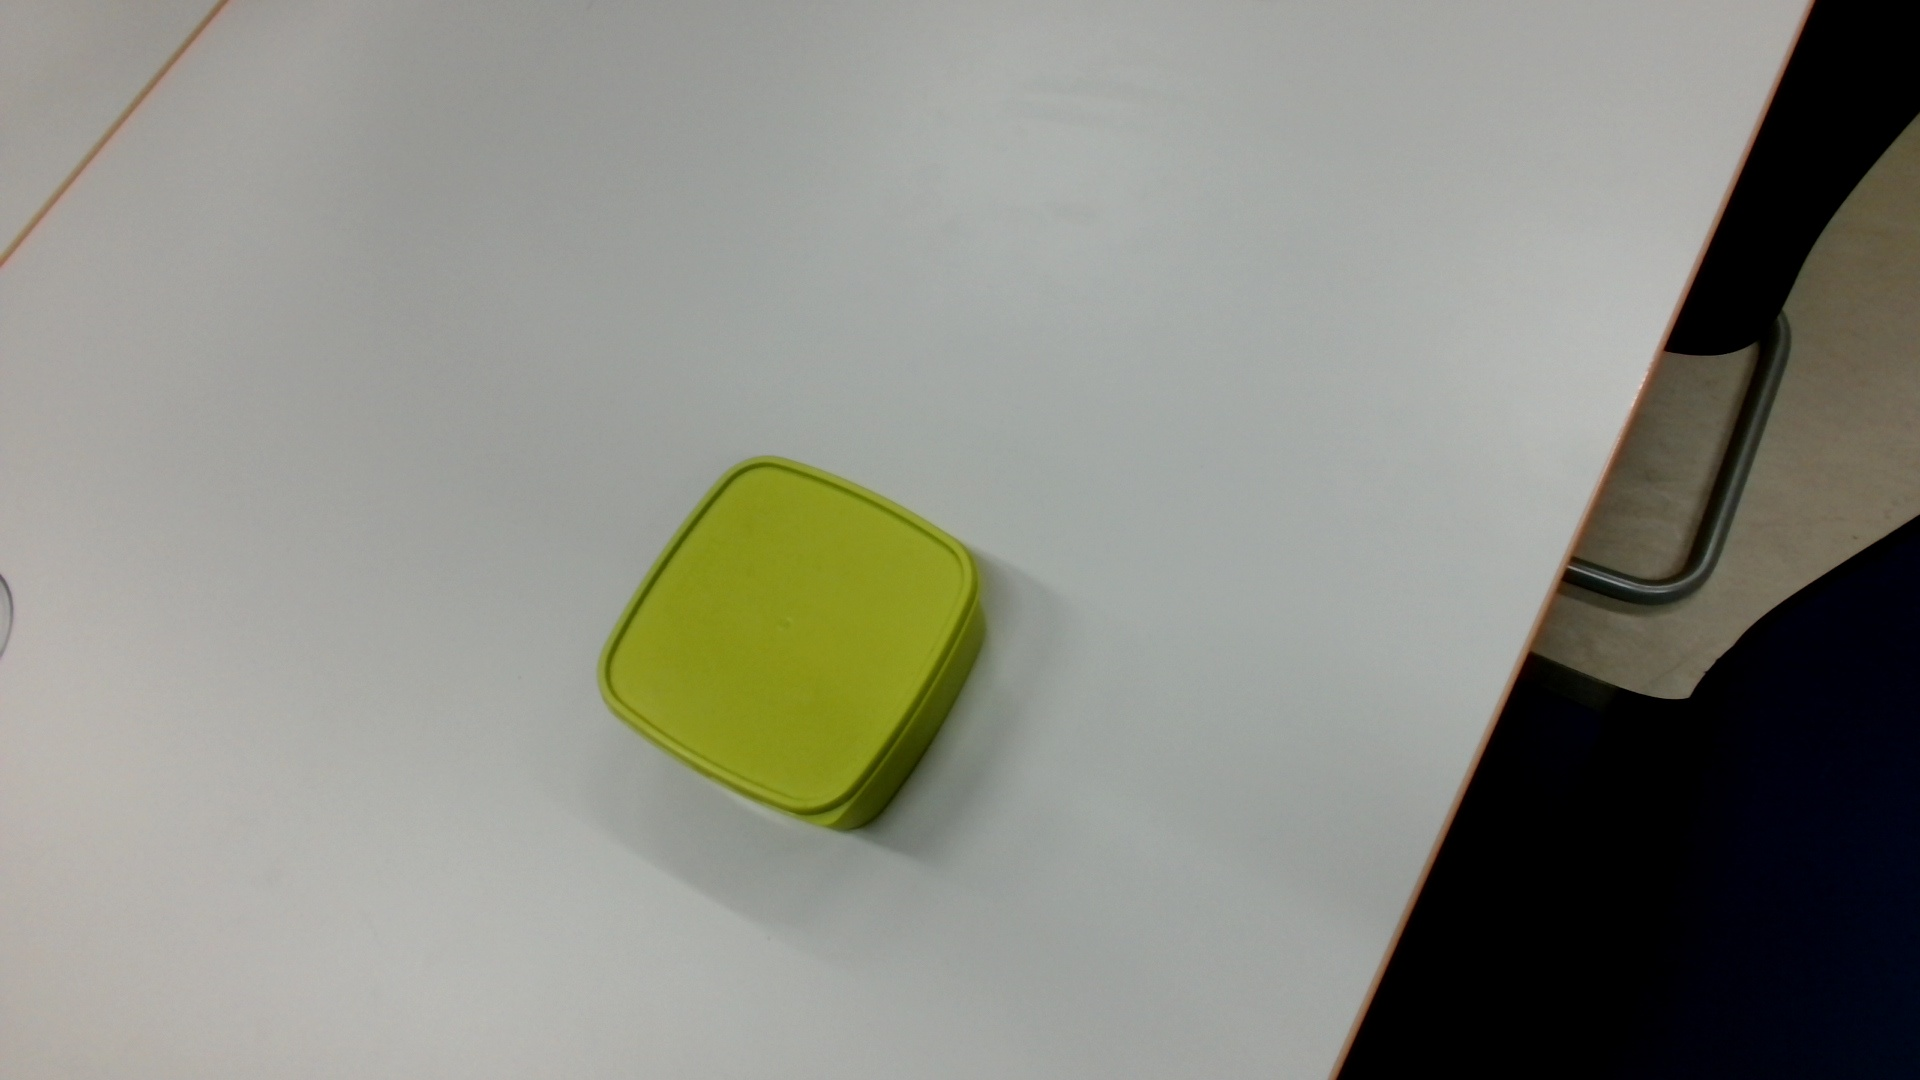Box: (590, 448, 998, 846)
